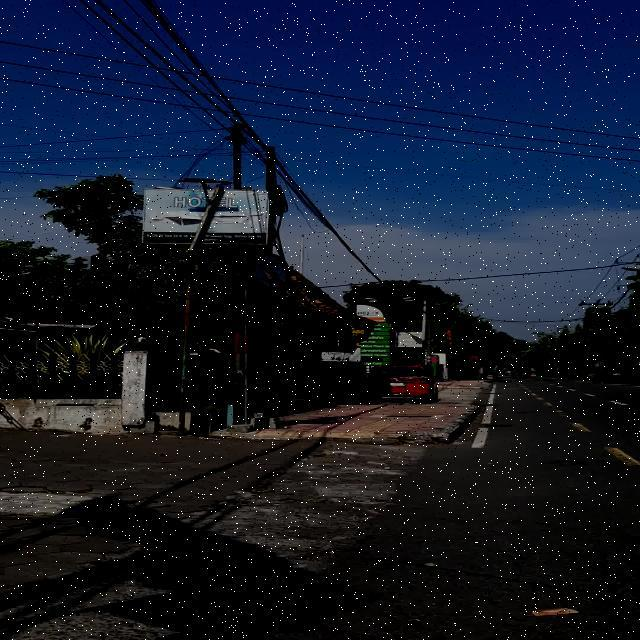Dilarang Berhenti: (250, 253, 290, 291)
